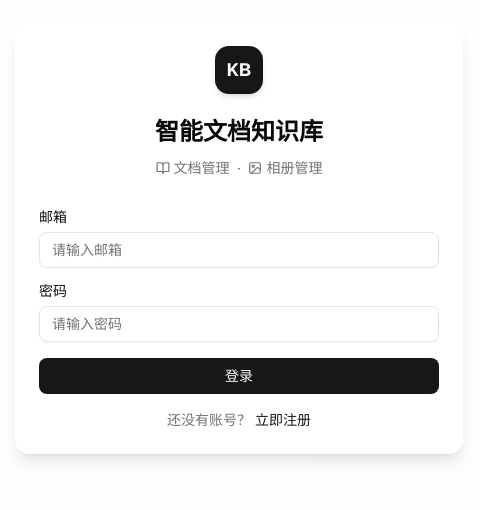
Test case: LoginForm - 邀请回跳 › 登录失败：不消费 invite_redirect、不跳转
The image size is (480, 510).
Type "a@b.com" into the field with placeholder "请输入邮箱" at coordinates (239, 250), box [39,232,439,268]
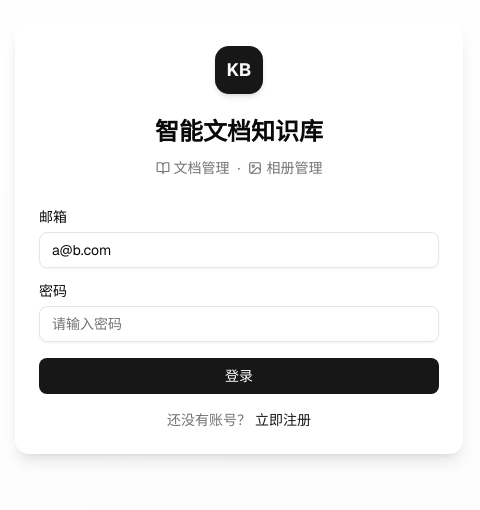
Type "wrongpass" into the password field with placeholder "请输入密码" at coordinates (239, 324), box [39,306,439,342]
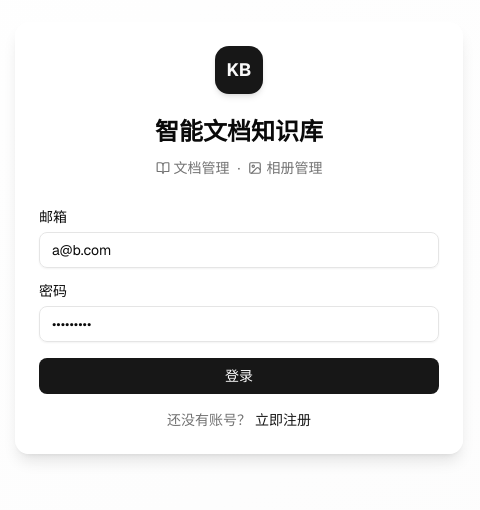
Click the button "登录" at coordinates (239, 376), box [39,358,439,394]
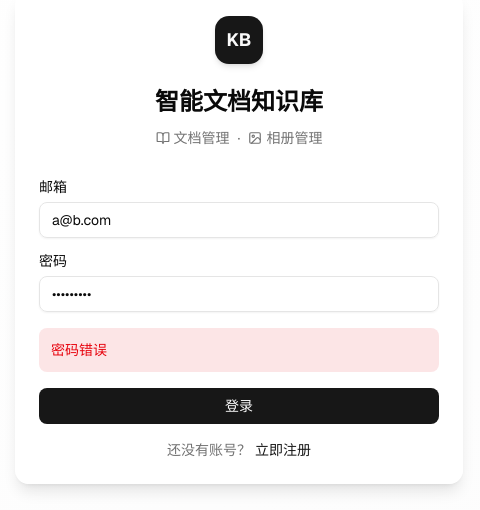
Result: the text "密码错误" is shown at [39,328,439,372]
